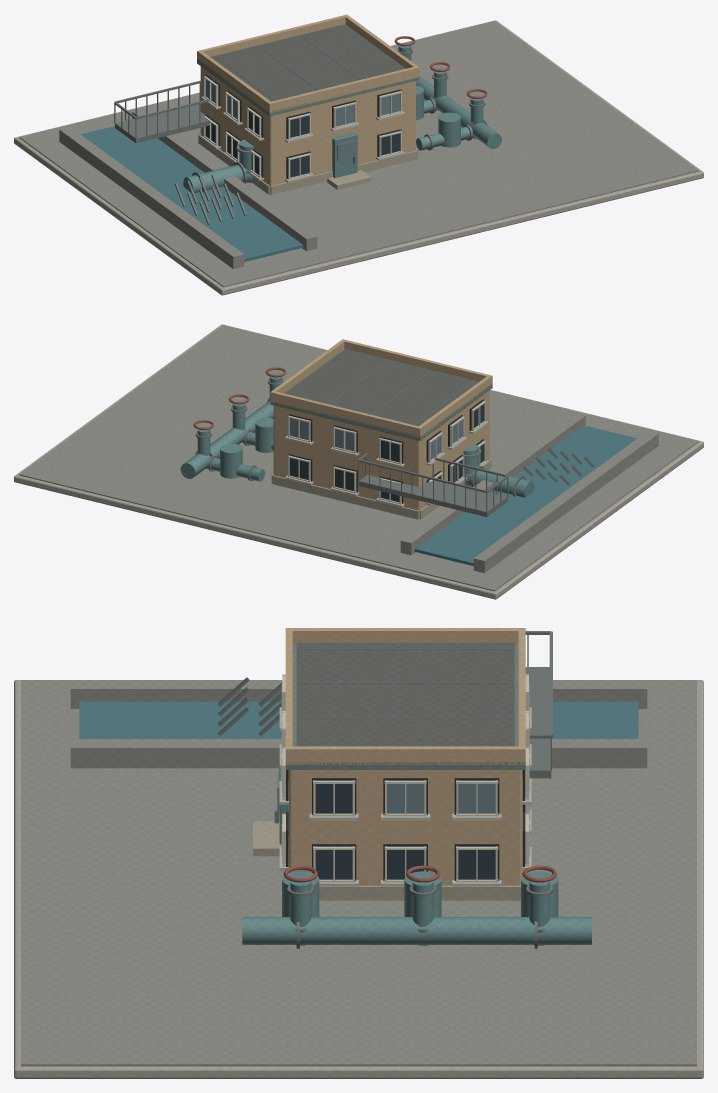
The model's file is EXP_WATER_PUMP_RIVER.glb.
3 renders of one model, top to bottom at view 1: azimuth 30°, elevation 25°; view 2: azimuth 150°, elevation 25°; view 3: azimuth 270°, elevation 25°, orthographic. The views are drawn at different scales.
Parts seen in each view (by area): view 1: EXP_WATER_PUMP_RIVER_Visual; view 2: EXP_WATER_PUMP_RIVER_Visual; view 3: EXP_WATER_PUMP_RIVER_Visual.
Part boxes in pixels (x1=…): EXP_WATER_PUMP_RIVER_Visual: x1=14, y1=14, x2=703, y2=295; EXP_WATER_PUMP_RIVER_Visual: x1=14, y1=324, x2=703, y2=599; EXP_WATER_PUMP_RIVER_Visual: x1=14, y1=628, x2=703, y2=1078.
Size of what is drawn, in the model's own units: 7.92 by 1.58 by 5.92.
Materials: 15 (9 with a texture image).
